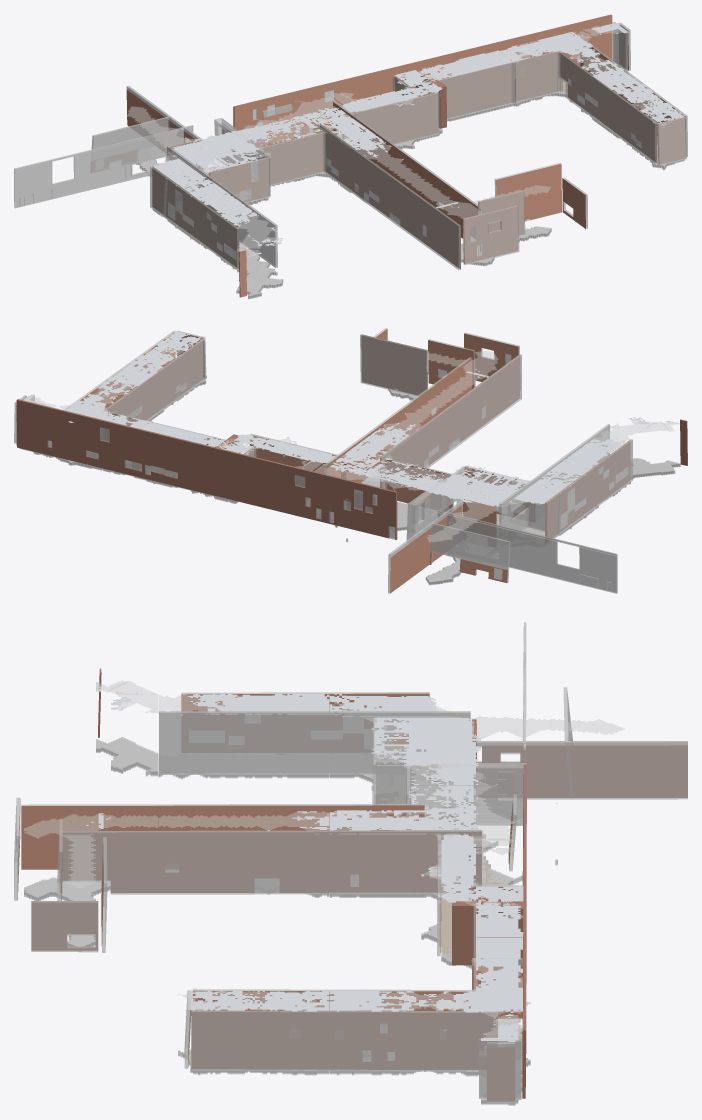
File: modelo.glb
3 views of the same model, one above another, from view 1: azimuth 30°, elevation 25°; view 2: azimuth 150°, elevation 25°; view 3: azimuth 270°, elevation 25° (orthographic). The views are drawn at different scales.
Parts seen in each view (by area): view 1: CieloRaso_zona2_medido, Muro_M03_1_cara_medida, Muro_M12_0_cuerpo_supuesto, Muro_M12_0_cara_medida, Muro_M03_0_cara_supuesta, Muro_M03_0_cuerpo, Muro_M04_2_cuerpo_supuesto, CieloRaso_zona2_supuesto, Muro_M04_2_cara_medida, CieloRaso_zona1_medido, Muro_M08_0_cuerpo_supuesto, Muro_M09_0_cuerpo_supuesto (+32 smaller); view 2: Muro_M03_1_cuerpo, CieloRaso_zona2_medido, Muro_M12_0_cuerpo_supuesto, Muro_M12_0_cara_medida, CieloRaso_zona2_supuesto, CieloRaso_zona1_medido, Muro_M03_0_cuerpo, Muro_M09_0_cuerpo_supuesto, Muro_M08_0_cuerpo_supuesto, Muro_M15_2_cuerpo_supuesto, Muro_M07_0_cara_medida, Muro_M15_2_cara_medida (+26 smaller); view 3: Muro_M07_0_cuerpo_supuesto, Muro_M07_0_cara_medida, CieloRaso_zona2_medido, Muro_M11_0_cuerpo_supuesto, Muro_M11_0_cara_medida, Muro_M06_0_cuerpo_supuesto, Muro_M16_0_cuerpo_supuesto, Muro_M12_0_cara_medida, CieloRaso_zona2_supuesto, Muro_M16_0_cara_medida, CieloRaso_zona1_medido, Losa_cuerpo (+16 smaller).
Part boxes in pixels (x1,y1,x2,y2): CieloRaso_zona2_medido: (183, 23, 684, 246); Muro_M03_1_cara_medida: (234, 15, 612, 147); Muro_M12_0_cuerpo_supuesto: (317, 123, 460, 270); Muro_M12_0_cara_medida: (320, 123, 460, 268); Muro_M03_0_cara_supuesta: (15, 126, 193, 208); Muro_M03_0_cuerpo: (14, 127, 192, 207); Muro_M04_2_cuerpo_supuesto: (430, 50, 562, 119); CieloRaso_zona2_supuesto: (196, 25, 684, 248); Muro_M04_2_cara_medida: (430, 52, 561, 118); CieloRaso_zona1_medido: (154, 35, 671, 256); Muro_M08_0_cuerpo_supuesto: (557, 50, 657, 164); Muro_M09_0_cuerpo_supuesto: (150, 166, 239, 269); Muro_M03_1_cuerpo: (16, 399, 397, 539); CieloRaso_zona2_medido: (23, 331, 656, 486); Muro_M12_0_cuerpo_supuesto: (380, 354, 521, 488); Muro_M12_0_cara_medida: (380, 354, 519, 488); CieloRaso_zona2_supuesto: (30, 332, 668, 477); CieloRaso_zona1_medido: (68, 335, 679, 506); Muro_M03_0_cuerpo: (437, 512, 617, 593); Muro_M09_0_cuerpo_supuesto: (545, 439, 632, 538); Muro_M08_0_cuerpo_supuesto: (102, 339, 205, 420); Muro_M15_2_cuerpo_supuesto: (360, 334, 427, 396); Muro_M07_0_cara_medida: (327, 358, 472, 482); Muro_M15_2_cara_medida: (361, 334, 427, 394); Muro_M07_0_cuerpo_supuesto: (60, 830, 481, 894); Muro_M07_0_cara_medida: (60, 830, 481, 892); CieloRaso_zona2_medido: (86, 691, 523, 1041); Muro_M11_0_cuerpo_supuesto: (191, 1010, 497, 1071); Muro_M11_0_cara_medida: (191, 1010, 497, 1069); Muro_M06_0_cuerpo_supuesto: (159, 711, 470, 774); Muro_M16_0_cuerpo_supuesto: (476, 741, 687, 799); Muro_M12_0_cara_medida: (21, 805, 424, 869); CieloRaso_zona2_supuesto: (24, 681, 523, 1037); Muro_M16_0_cara_medida: (477, 745, 687, 797); CieloRaso_zona1_medido: (96, 682, 530, 1017); Losa_cuerpo: (24, 737, 557, 1105).
Bounding box in the file's own units: 12.67 × 1.14 × 8.51.
